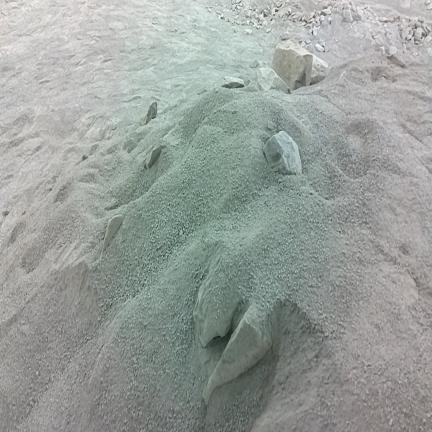Rock: (203, 306, 272, 404), (193, 257, 239, 347), (272, 41, 313, 90), (264, 131, 301, 175), (258, 68, 290, 93), (311, 55, 328, 84), (140, 102, 157, 125), (146, 146, 161, 169), (222, 77, 244, 88), (343, 9, 353, 22), (414, 28, 422, 41), (356, 7, 363, 21), (410, 18, 418, 28), (389, 46, 397, 55), (321, 8, 331, 15), (315, 44, 324, 51), (313, 26, 319, 35), (379, 17, 389, 22), (244, 29, 252, 35), (425, 34, 431, 42), (407, 33, 413, 40), (419, 16, 425, 23), (259, 14, 264, 22), (254, 23, 260, 29), (264, 10, 269, 16), (416, 22, 421, 28), (263, 20, 268, 25), (266, 28, 271, 33), (306, 39, 311, 44), (301, 41, 305, 47), (381, 47, 384, 54), (310, 11, 314, 16), (320, 16, 324, 21), (272, 8, 275, 14)
